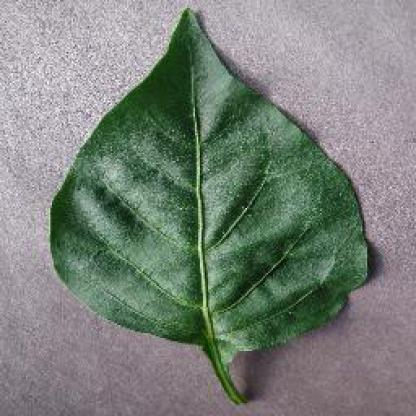bad leaf: (68, 39, 344, 337), (21, 35, 261, 294)
